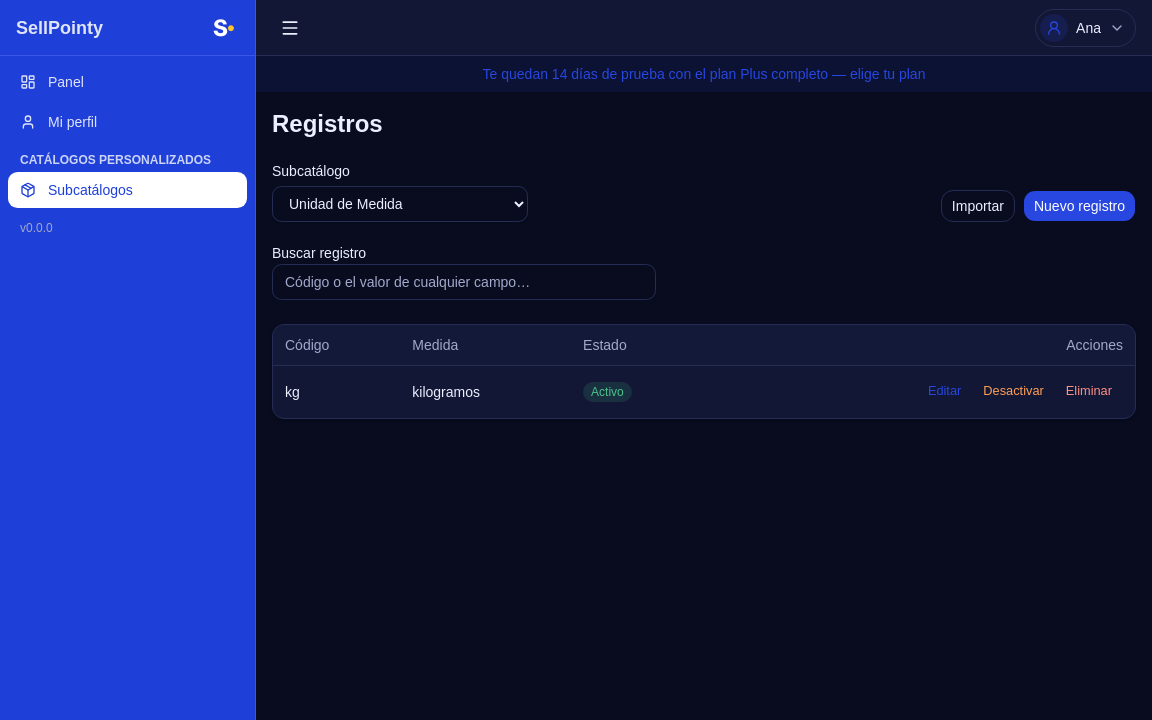
Eliminar un registro (2026-08-25) › el 409 de uno referenciado se muestra y la fila no desaparece
Expected: the text "kg" is shown, [273,365,400,418]
Click the button "Eliminar": click(1089, 392) [1055,378,1123,406]
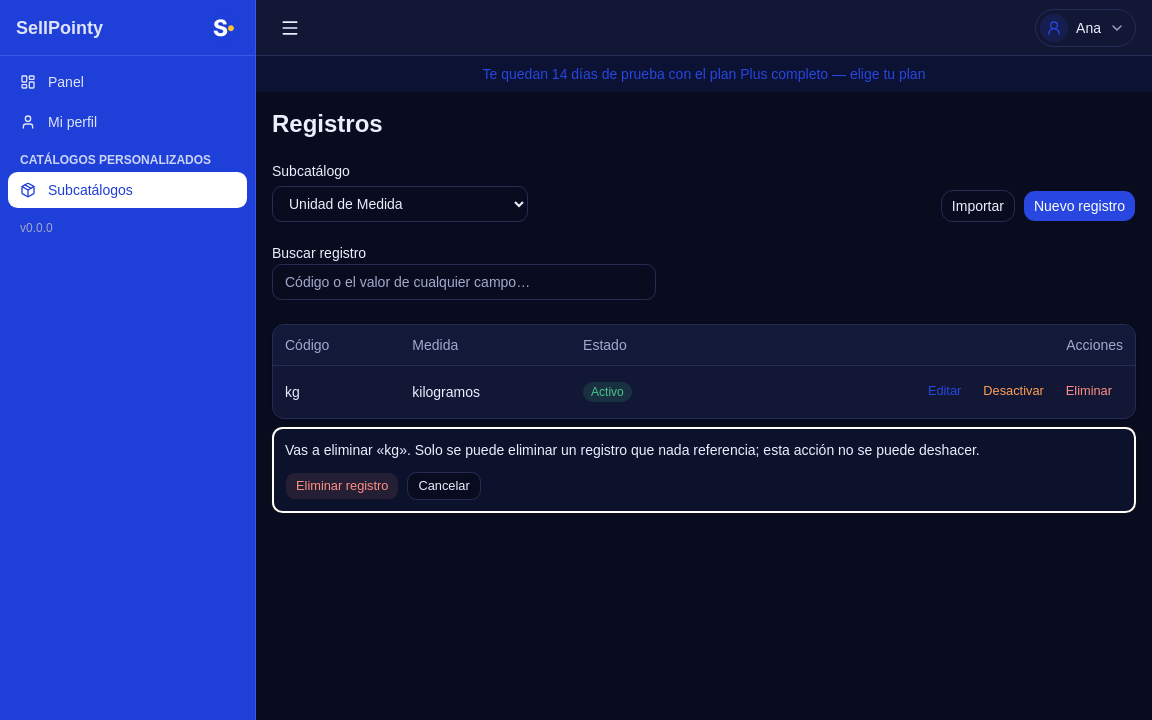
Click the button "Eliminar registro": click(342, 486) [285,472,400,500]
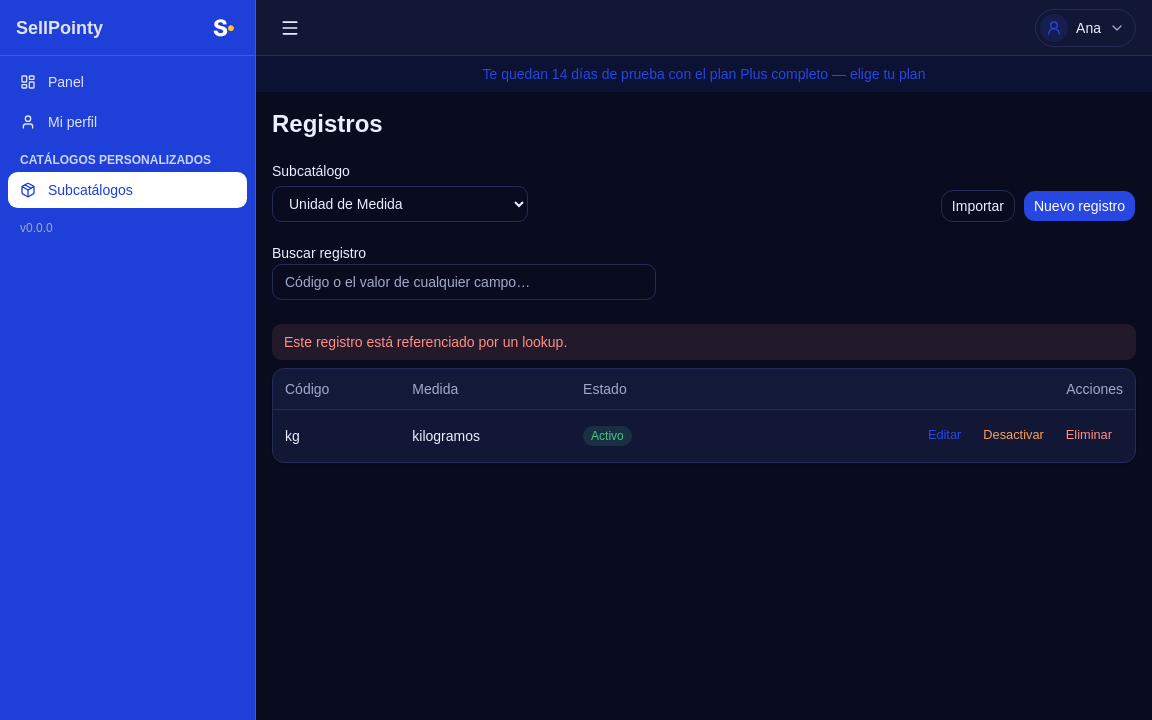
Expected: the text "kg" is shown, [273,409,400,462]
Expected: the message shows "referenciado", [284,334,567,350]
